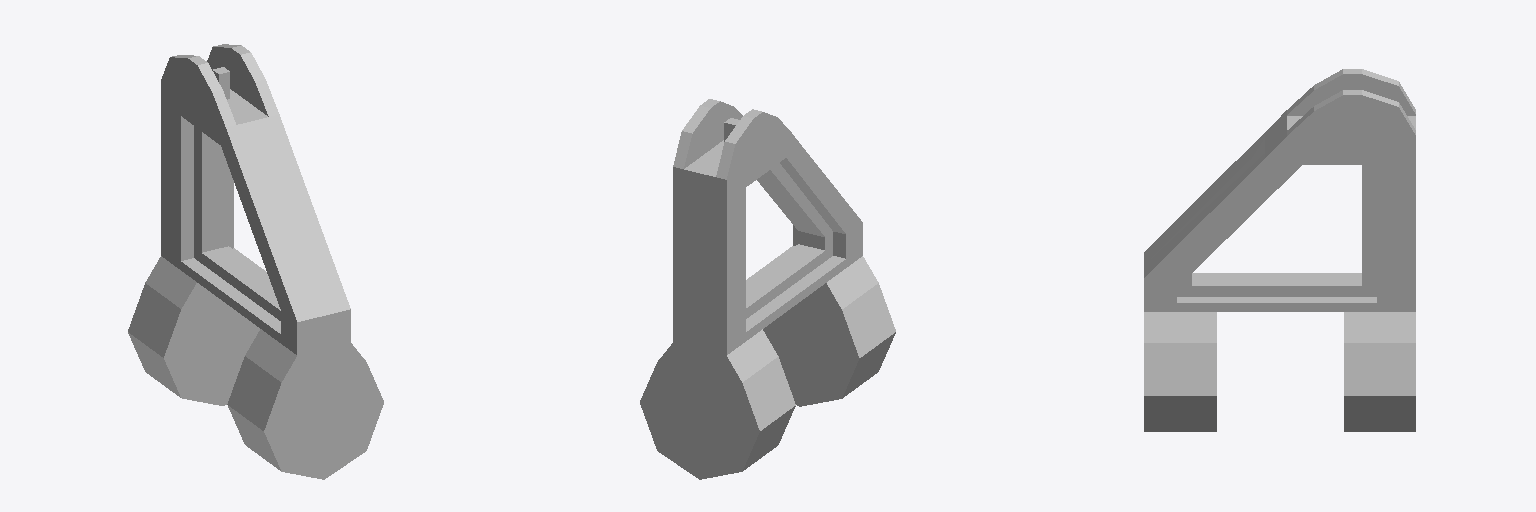
The model's file is m4_fsight.obj.
3 renders of one model, left to right at view 1: azimuth 30°, elevation 25°; view 2: azimuth 150°, elevation 25°; view 3: azimuth 270°, elevation 25°, orthographic.
Visible parts, largest first — view 1: fsight_Mesh.087; view 2: fsight_Mesh.087; view 3: fsight_Mesh.087.
Boxes of the visible parts, box(x1,y1,x2,y2) form: fsight_Mesh.087: box(128, 44, 383, 479); fsight_Mesh.087: box(640, 99, 895, 479); fsight_Mesh.087: box(1144, 69, 1415, 431).
Size of the model in its own units: 0.0285 by 0.0787 by 0.056.